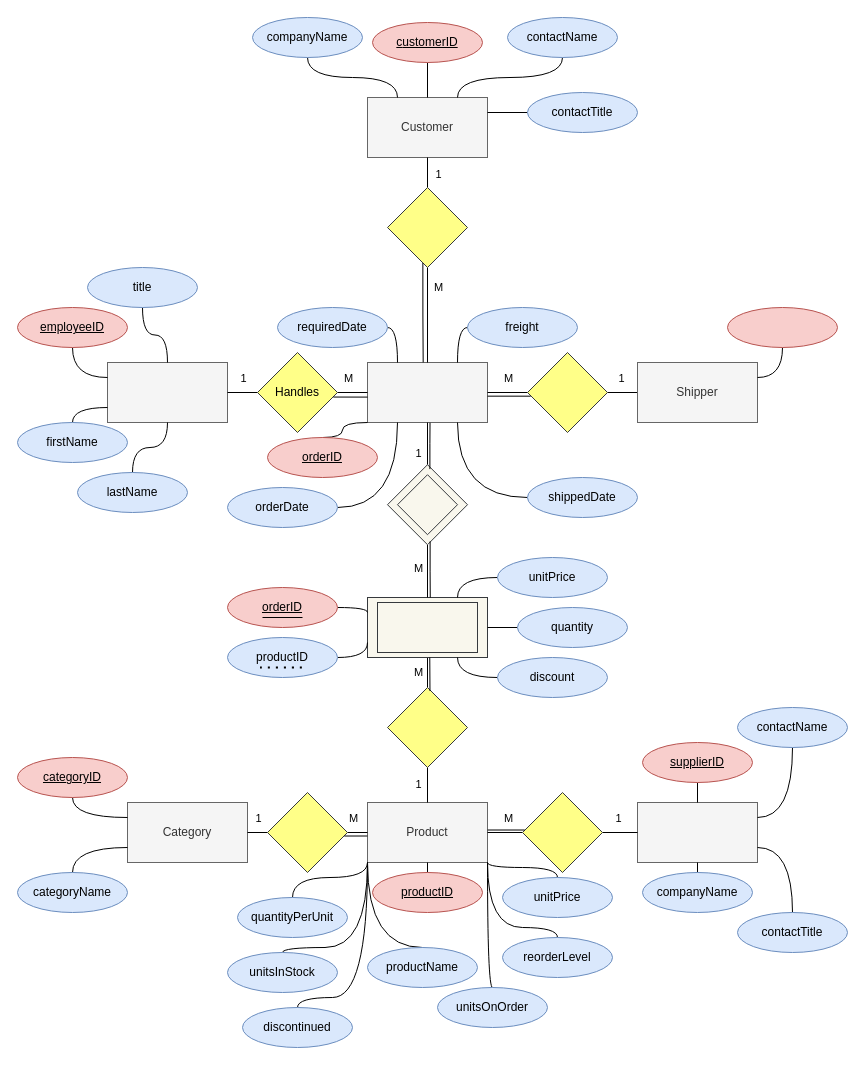
Some shapes in this 865 by 1065 pixel diagram are drawn without their labels. Each missing label, with the centre of its shape:
"Appears In" belongs at (427,727).
"Categorizes" belongs at (307,832).
"Contains" belongs at (427,504).
"Employee" belongs at (167,392).
"Order" belongs at (427,392).
"Order Detail" belongs at (427,627).
"Places" belongs at (427,227).
"Ships" belongs at (567,392).
"shipVia" belongs at (782,327).
"Supplier" belongs at (697,832).
"Supplies" belongs at (562,832).
